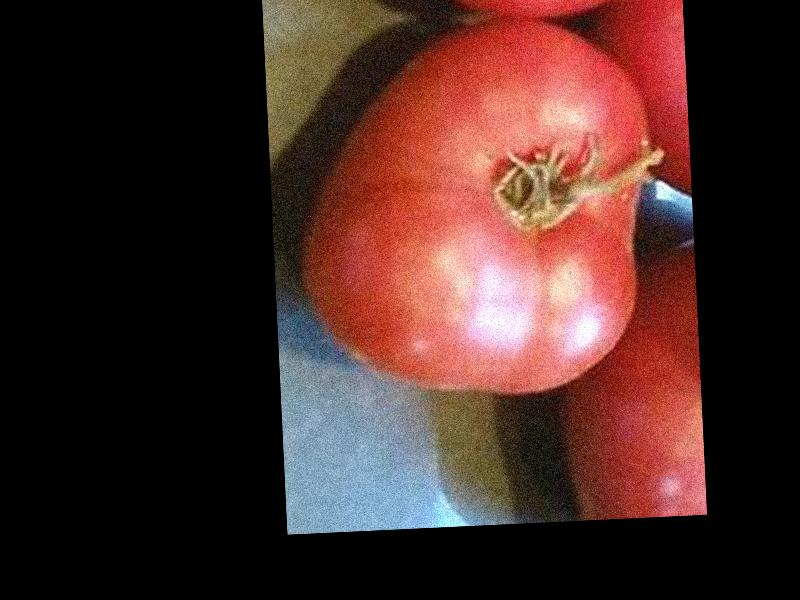Tomato: (293, 16, 660, 404)
